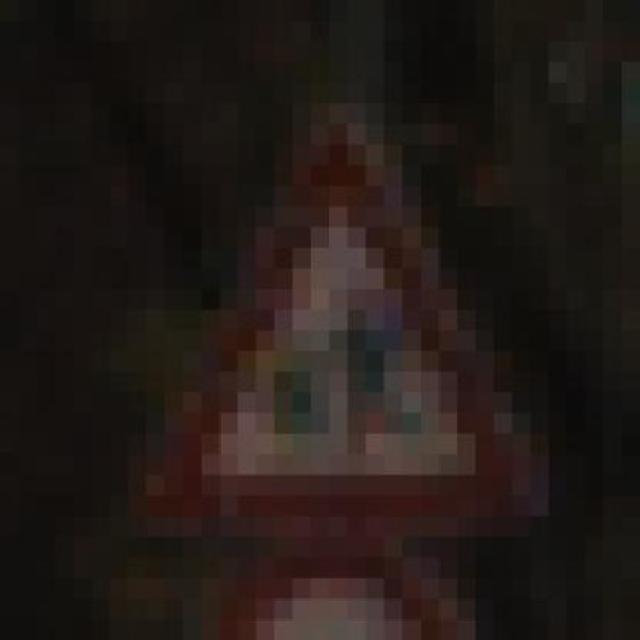Beware of children: (110, 123, 548, 537)
